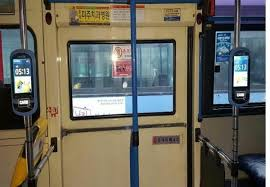exit: (44, 4, 201, 187)
